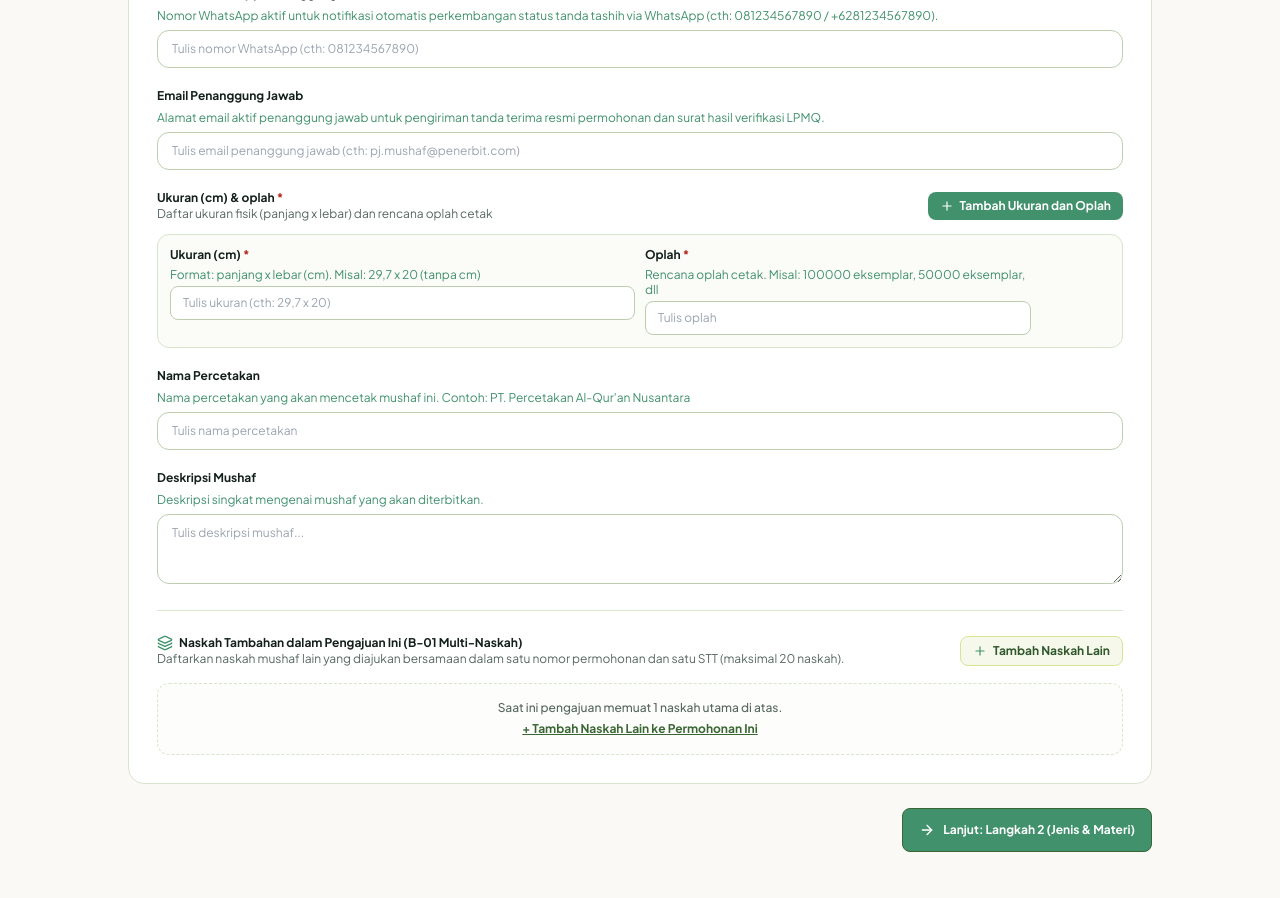
B-01 Sesi 3: Multi-Manuscript & Variants Form (Frontend) › B-01 FE-3: Menghapus naskah tambahan ketika tombol hapus diklik
(page scrolled)
# Tambah naskah ke-2
Click the button "Tambah Naskah Lain" at (1042, 650), box [960, 636, 1123, 666]
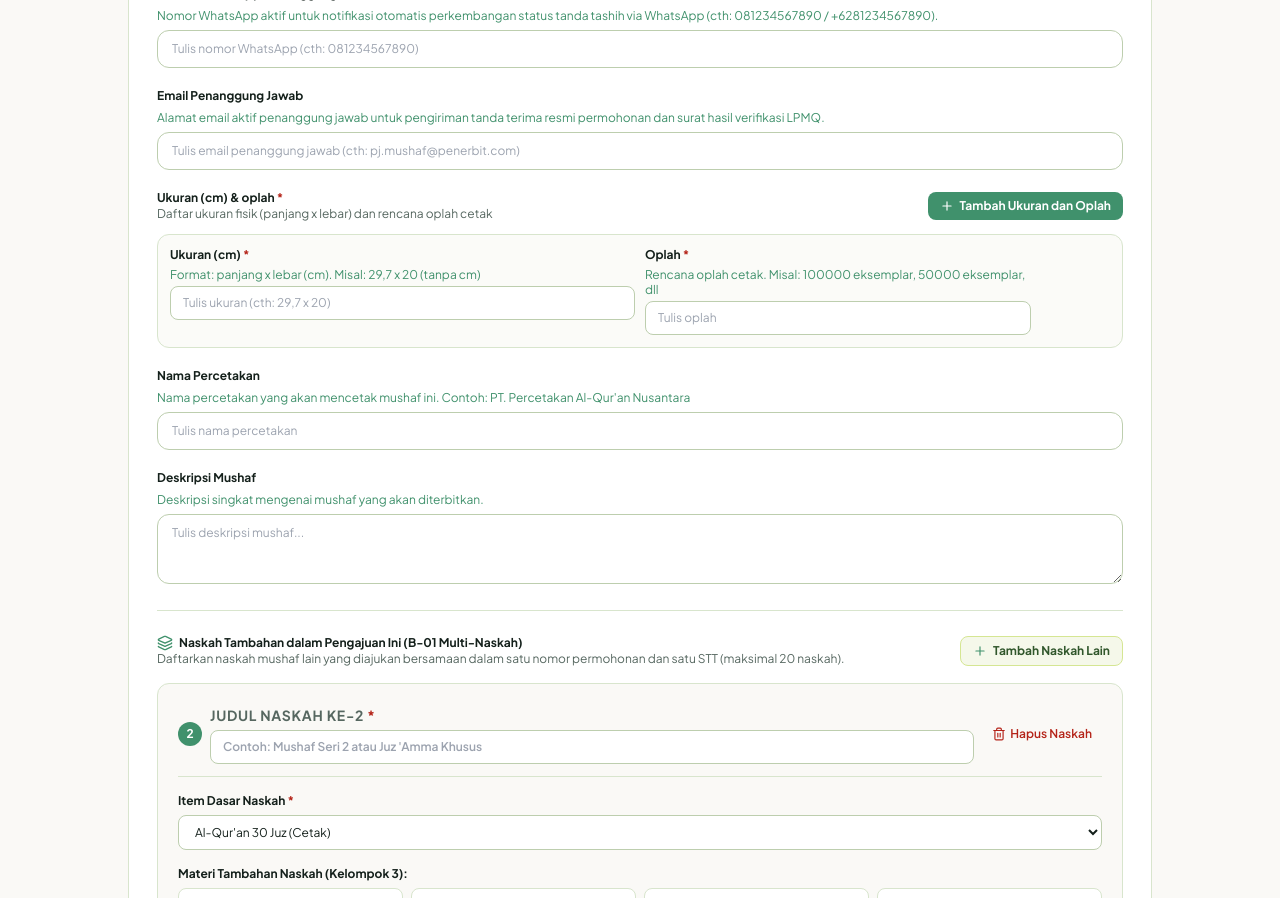
Expected: the text "Judul Naskah ke-2" is shown, [210, 706, 376, 724]
# Hapus naskah ke-2
Click the button "Hapus Naskah" at (1042, 734), box [982, 720, 1102, 748]
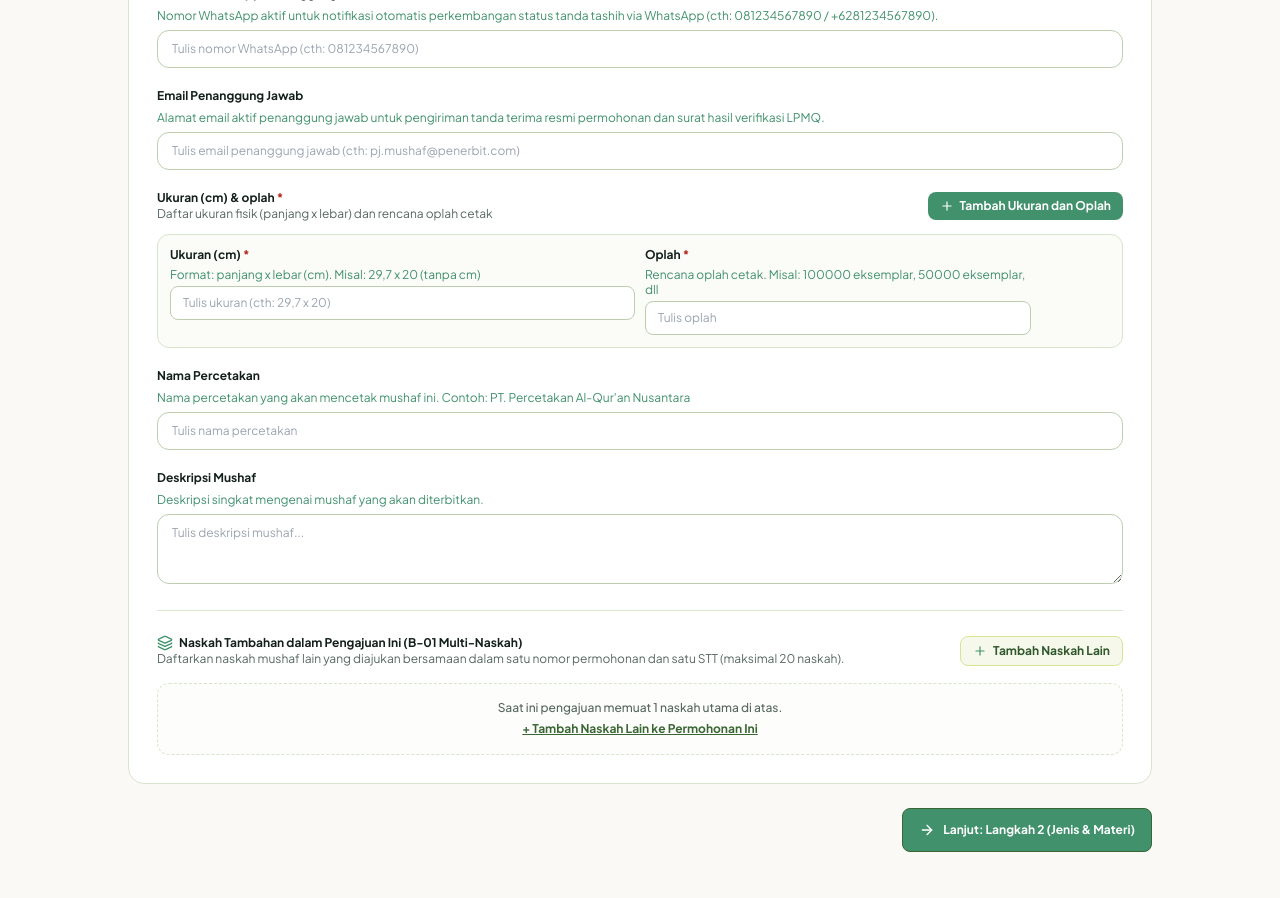
Expected: the text "Judul Naskah ke-2" is gone
